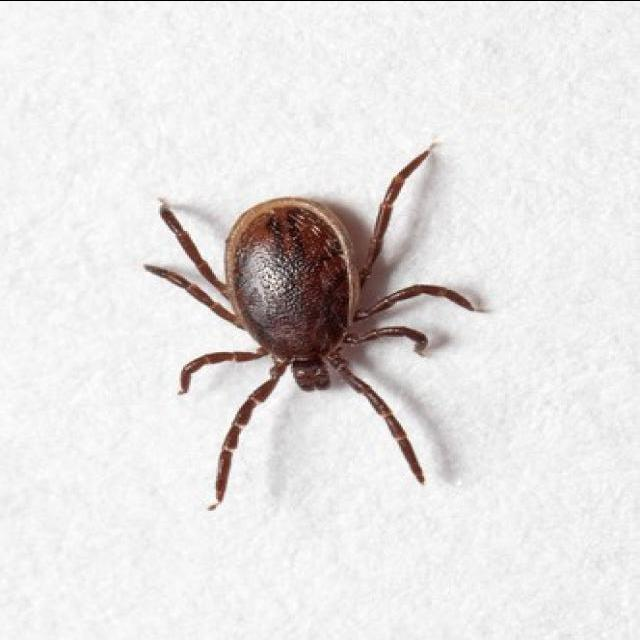Ixodes Ricinus-M: (145, 141, 486, 507)
